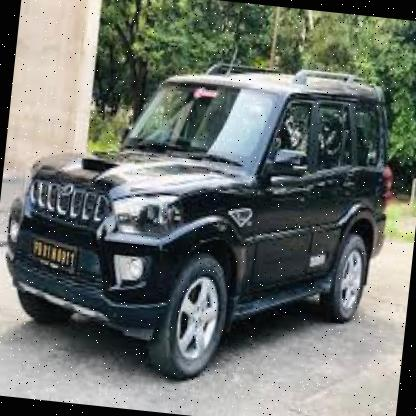car: (0, 34, 414, 405)
